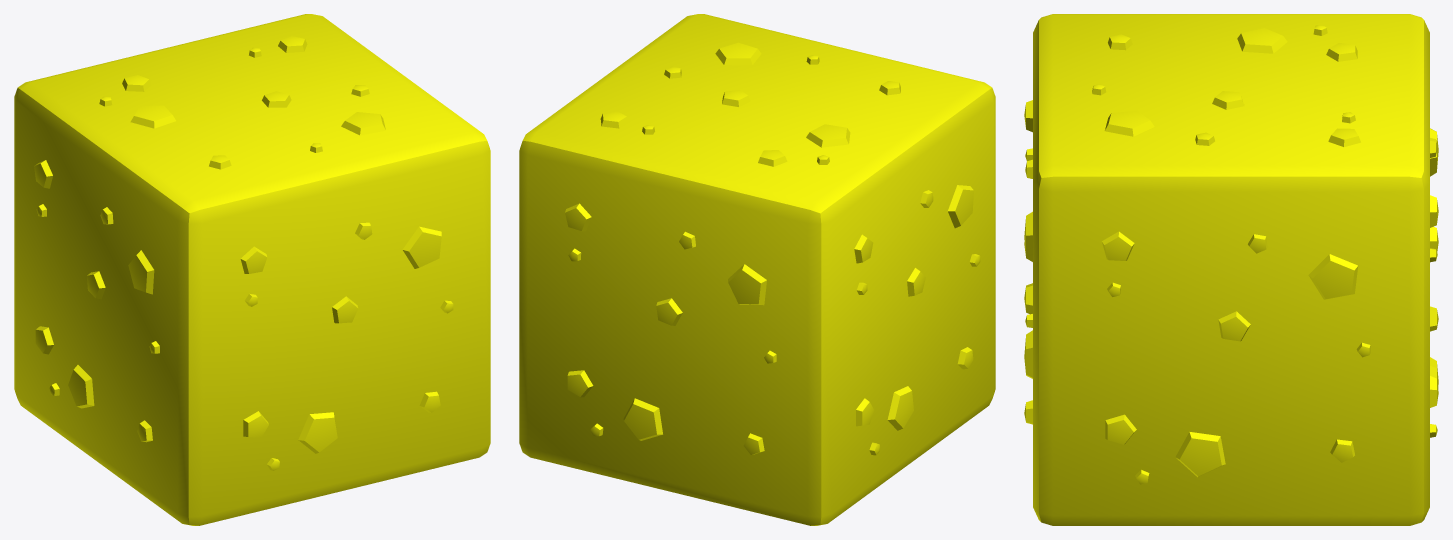
Rendered from kaykit-gravel.glb.
The picture shows the model from 3 angles, left to right: view 1: azimuth 30°, elevation 25°; view 2: azimuth 150°, elevation 25°; view 3: azimuth 270°, elevation 25°; orthographic projection. The views are drawn at different scales.
Visible parts, largest first — view 1: gravel; view 2: gravel; view 3: gravel.
Boxes of the visible parts, x1,y1,x2,y2 form: gravel: (14, 14, 490, 525); gravel: (519, 14, 995, 525); gravel: (1024, 14, 1438, 525).
Bounding box in the file's own units: 2.09 × 2.09 × 2.09.
